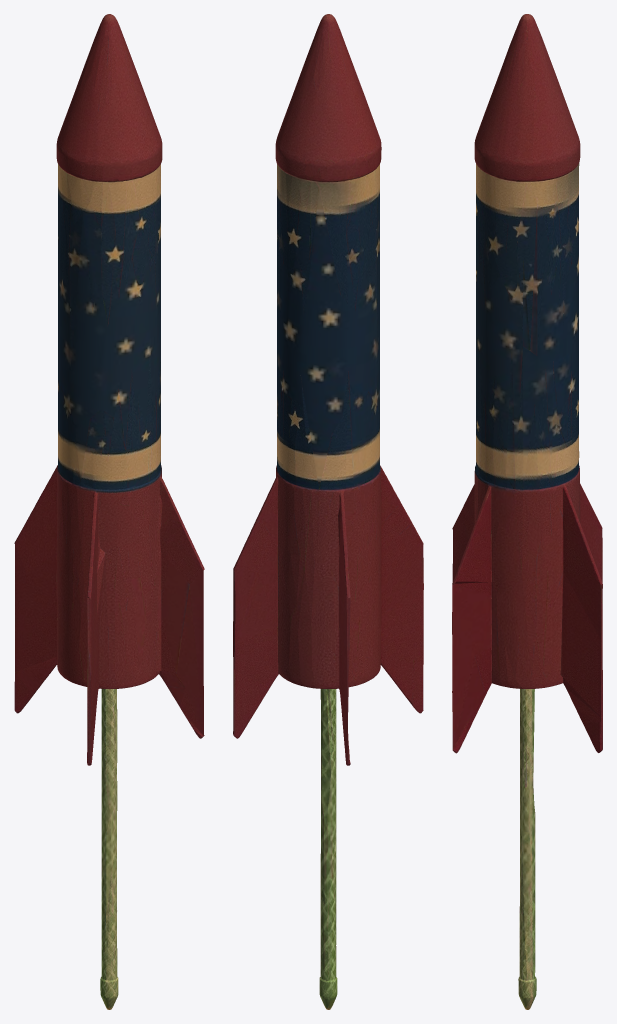
Rendered from firework_rocket.glb.
The picture shows the model from 3 angles, left to right: view 1: azimuth 30°, elevation 25°; view 2: azimuth 150°, elevation 25°; view 3: azimuth 270°, elevation 25°; orthographic projection.
Visible parts, largest first — view 1: firework_rocket_0; view 2: firework_rocket_0; view 3: firework_rocket_0.
Part boxes in pixels (box(x1,y1,x2,y2)): firework_rocket_0: box(14, 14, 204, 1009); firework_rocket_0: box(233, 14, 423, 1009); firework_rocket_0: box(452, 14, 602, 1009).
Size of the model in its own units: 0.0987 by 0.8 by 0.1099.
Materials: 1 (1 with a texture image).
